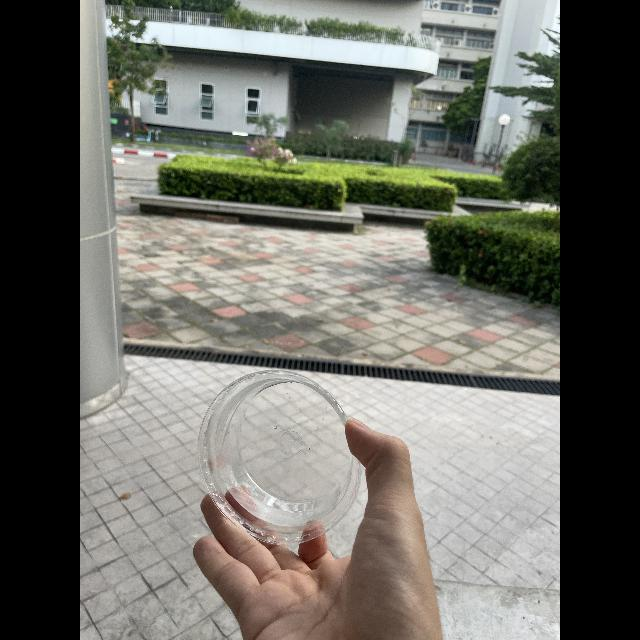plastic_cup_lid: (194, 364, 360, 554)
